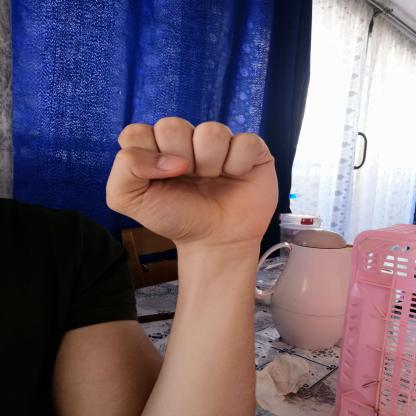SAD: (96, 109, 290, 251)
